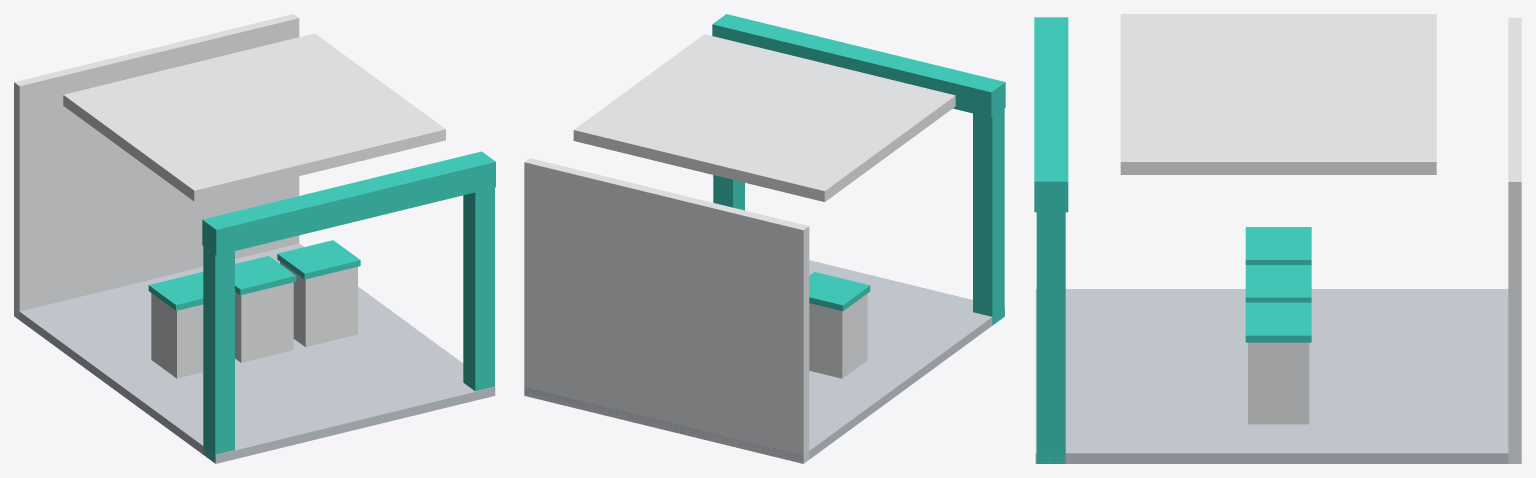
The picture shows the model from 3 angles, left to right: view 1: azimuth 30°, elevation 25°; view 2: azimuth 150°, elevation 25°; view 3: azimuth 270°, elevation 25°; orthographic projection. The views are drawn at different scales.
Visible parts, largest first — view 1: Exhibition Booth Concept; view 2: Exhibition Booth Concept; view 3: Exhibition Booth Concept.
Boxes of the visible parts, <box> form: Exhibition Booth Concept: <box>14,14,495,463</box>; Exhibition Booth Concept: <box>524,14,1005,463</box>; Exhibition Booth Concept: <box>1034,14,1521,463</box>.
Size of the model in its own units: 4 by 3.34 by 5.02.
